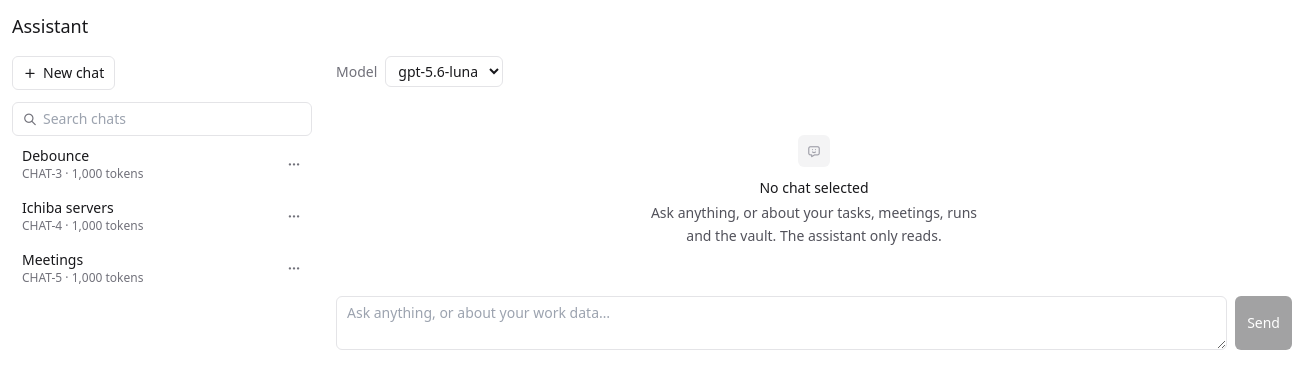
Scenario: chat list › AC-4: Escape during rename sends nothing and keeps the old title
Check: the button "Debounce CHAT-3 · 1,000 tokens" is shown, box [12, 140, 276, 188]
Click the 1st button named "Chat actions": x=294, y=164 [280, 150, 308, 178]
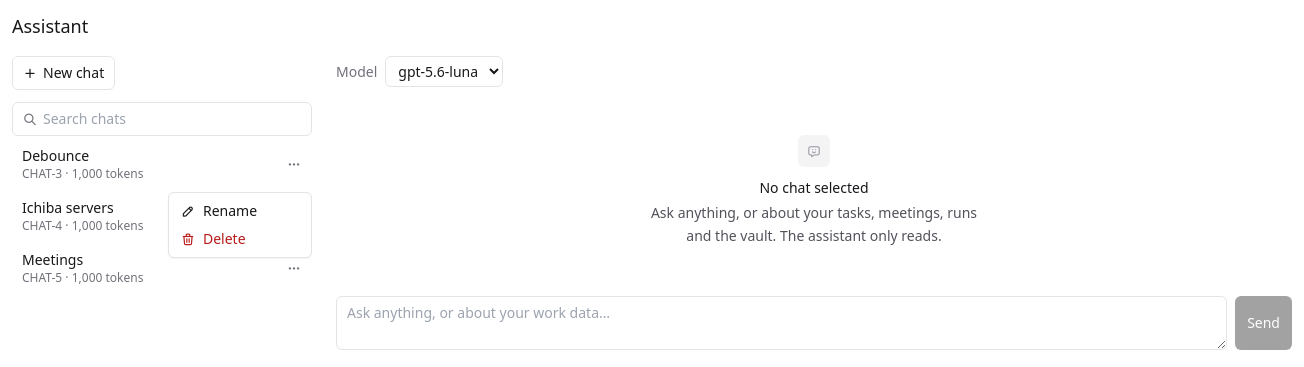
Click the menu item "Rename": x=240, y=211 [173, 197, 307, 225]
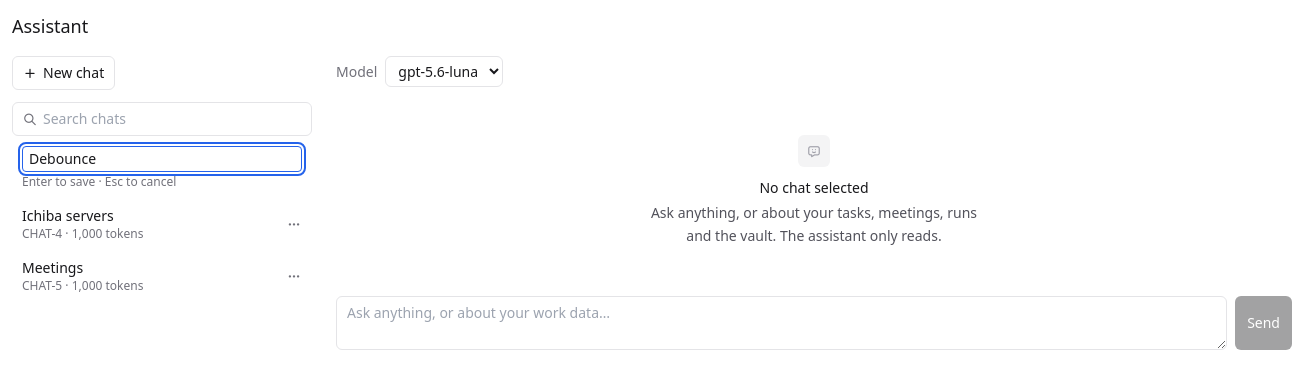
Replace the text in the field named "Chat title" with "something else": x=162, y=159 [22, 146, 302, 172]
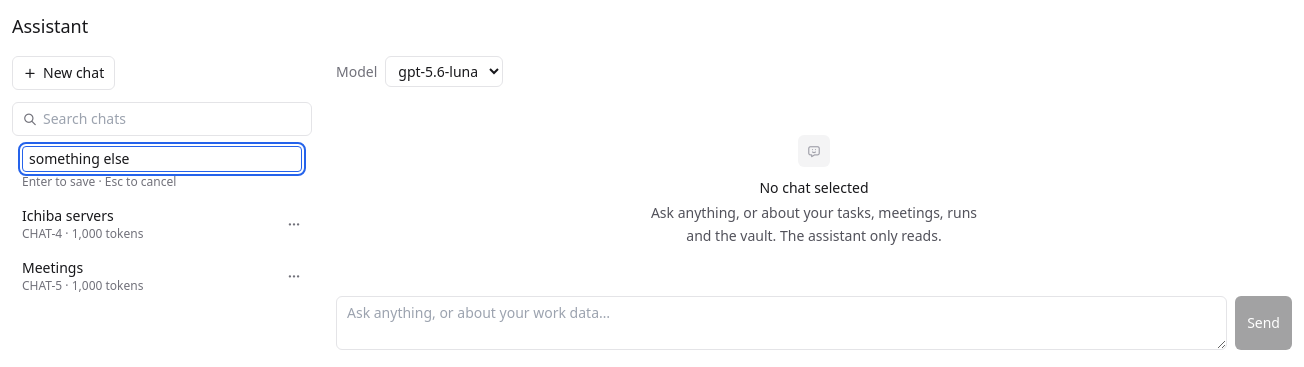
Press Escape in the field named "Chat title", box [22, 146, 302, 172]
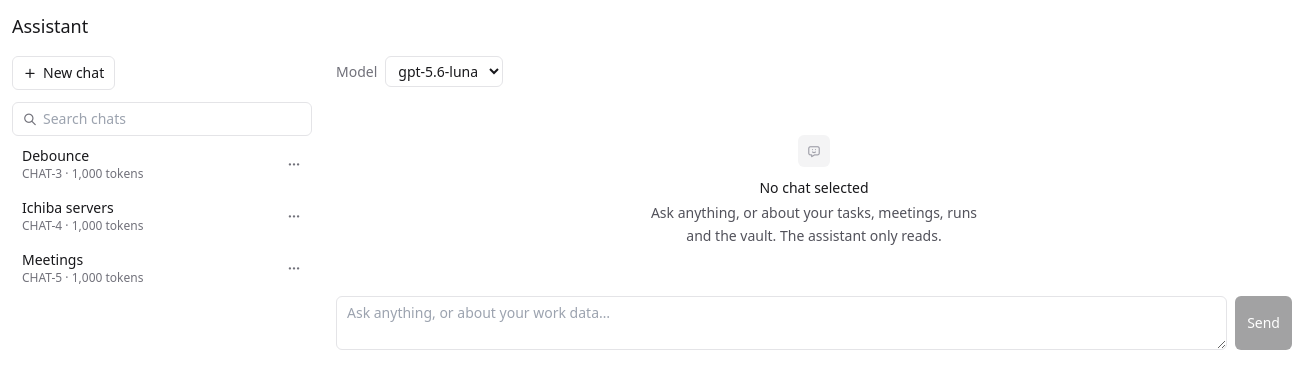
Check: the button "Debounce CHAT-3 · 1,000 tokens" is shown, box [12, 140, 276, 188]
